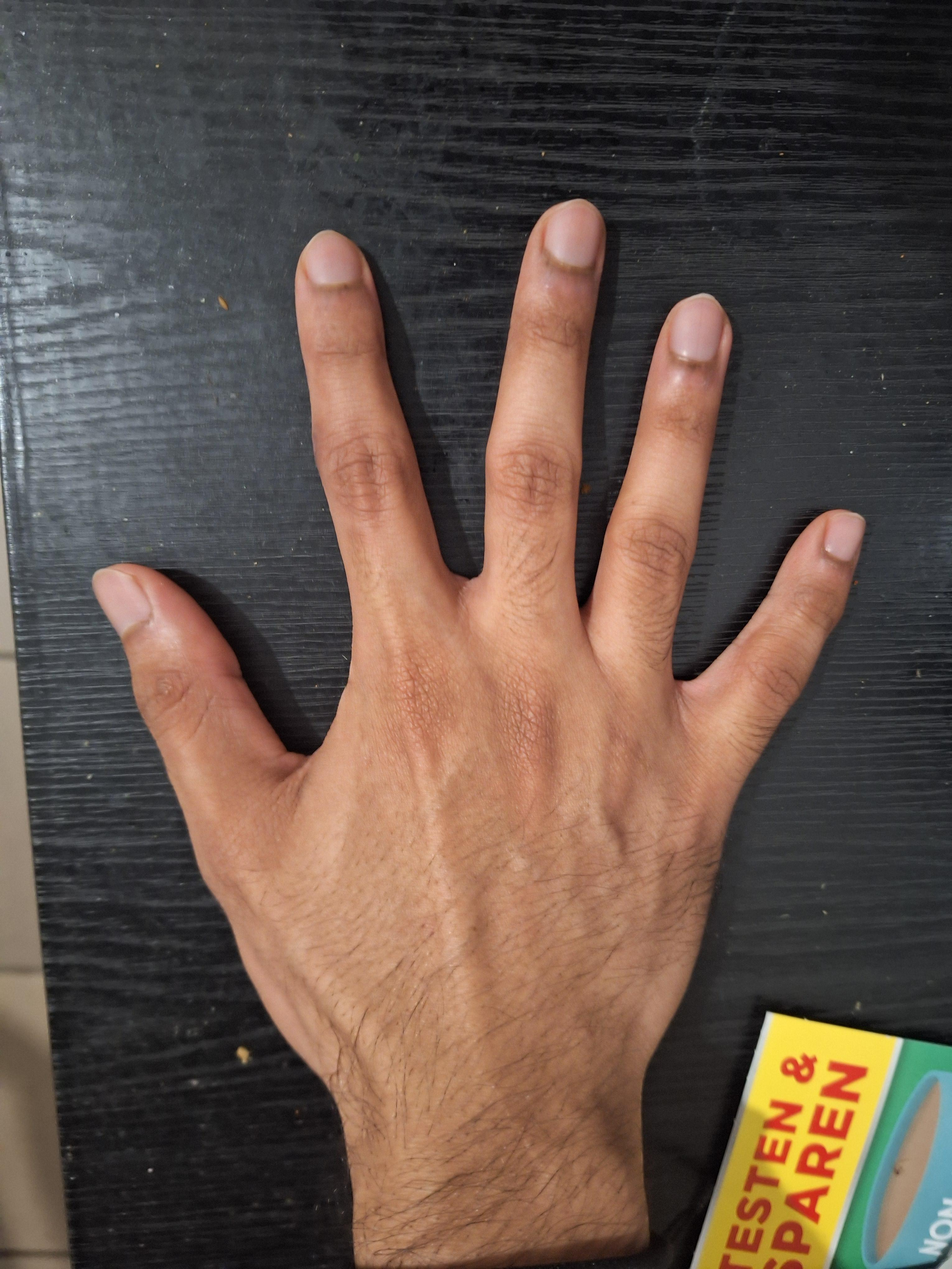Fingernail: (543, 198, 603, 268), (91, 570, 151, 635), (670, 293, 724, 361), (302, 230, 363, 284), (825, 513, 865, 561)
